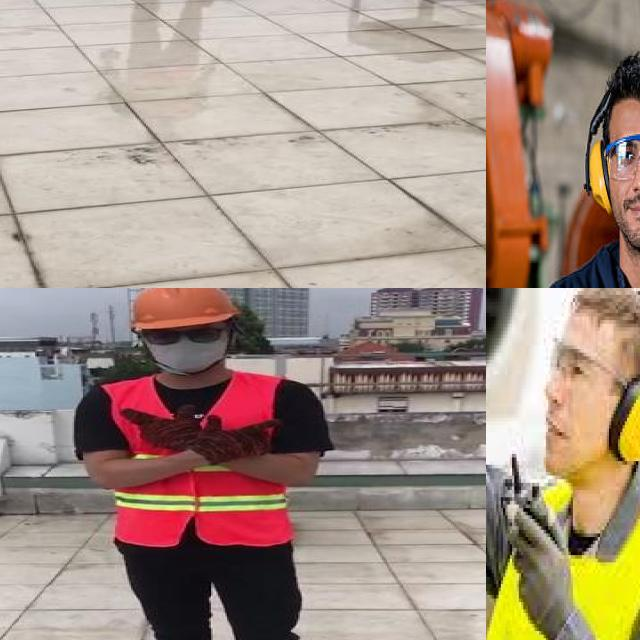Ear-protection: (602, 363, 640, 464), (586, 136, 614, 213)
face_mask: (136, 323, 232, 374)
glasses: (544, 329, 604, 388), (134, 322, 233, 347), (601, 131, 640, 181)
hand_glove: (506, 498, 572, 633), (115, 407, 200, 453), (202, 414, 279, 462)
head_helmet: (125, 288, 246, 331)
person: (78, 288, 364, 640), (486, 288, 640, 640), (512, 37, 640, 288)
vest: (101, 377, 296, 549), (486, 460, 640, 640)
